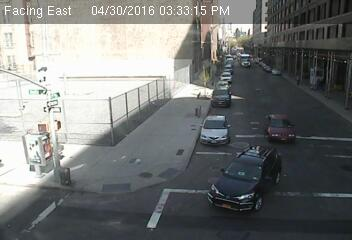neg: (83, 79, 119, 128), (227, 161, 256, 200), (313, 153, 342, 191), (159, 147, 184, 181), (27, 134, 52, 167), (299, 56, 321, 85), (34, 82, 53, 107), (63, 168, 77, 187), (309, 101, 322, 119), (195, 66, 208, 83), (276, 124, 288, 142), (224, 62, 235, 78), (270, 55, 281, 69), (194, 106, 204, 119), (195, 90, 201, 98)
